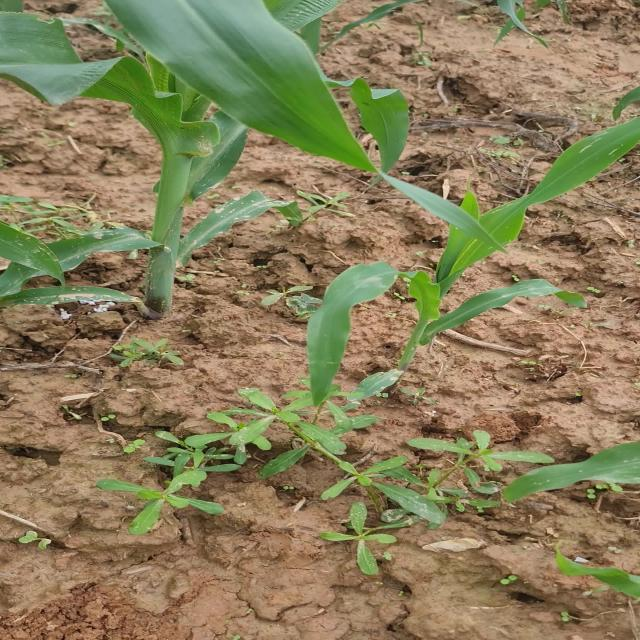maize: (0, 0, 240, 321), (373, 218, 532, 382), (250, 271, 397, 377), (498, 442, 640, 487)
weed: (113, 393, 566, 564)
